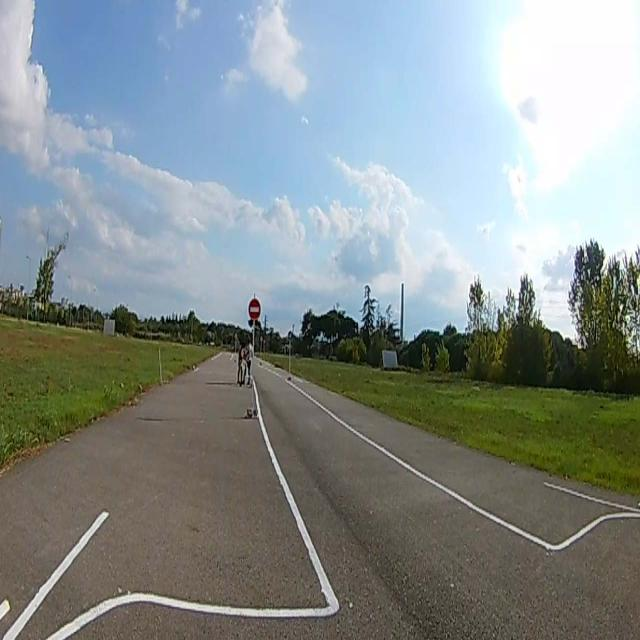girisyok: (248, 298, 260, 318)
